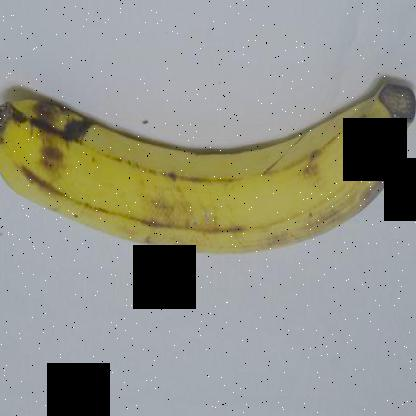ripe: (0, 57, 415, 264)
